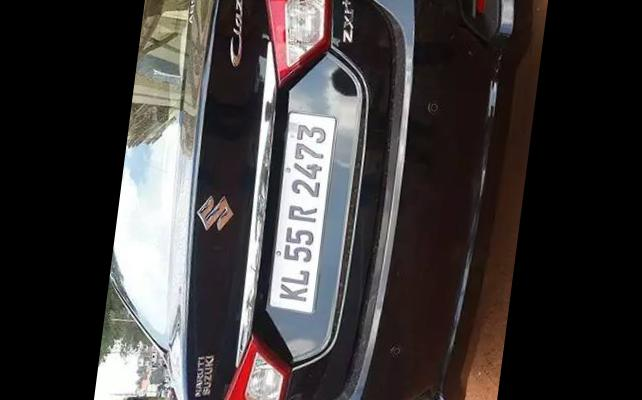plate: (244, 91, 352, 322)
